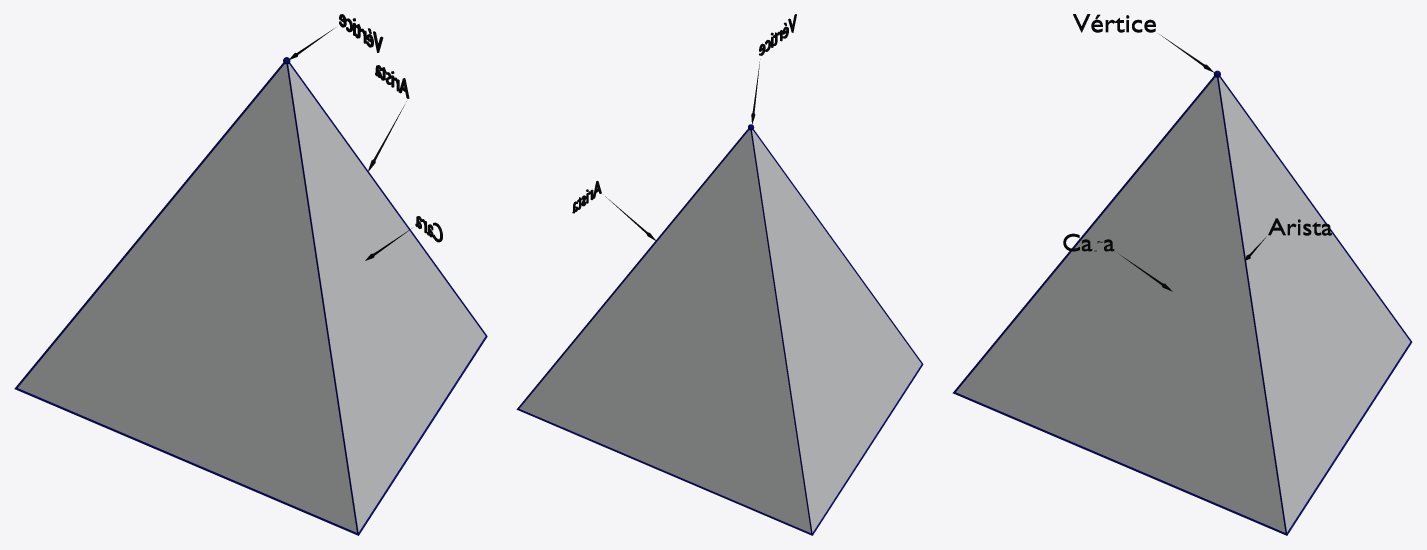
File: def_poliedro.glb
3 views of the same model, side by side, from view 1: azimuth 30°, elevation 25°; view 2: azimuth 150°, elevation 25°; view 3: azimuth 270°, elevation 25° (orthographic). The views are drawn at different scales.
Parts seen in each view (by area): view 1: Solid, Solid.001, Text.001; view 2: Solid, Solid.001; view 3: Solid, Solid.001, Text.001.
Boxes of the visible parts, x1,y1,x2,y2 form: Solid: [18, 64, 485, 532]; Solid.001: [14, 62, 487, 535]; Text.001: [339, 14, 383, 52]; Solid: [519, 130, 921, 532]; Solid.001: [516, 129, 923, 535]; Solid: [956, 77, 1410, 532]; Solid.001: [952, 76, 1412, 535]; Text.001: [1073, 14, 1155, 32].
Size of the model in its own units: 3.14 by 3.17 by 3.15.
